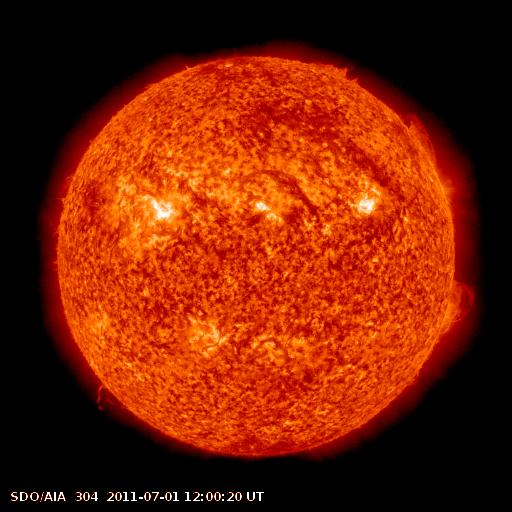prominence: (431, 275, 485, 344), (396, 104, 448, 174), (74, 376, 127, 419), (307, 56, 364, 89), (53, 166, 81, 207)
